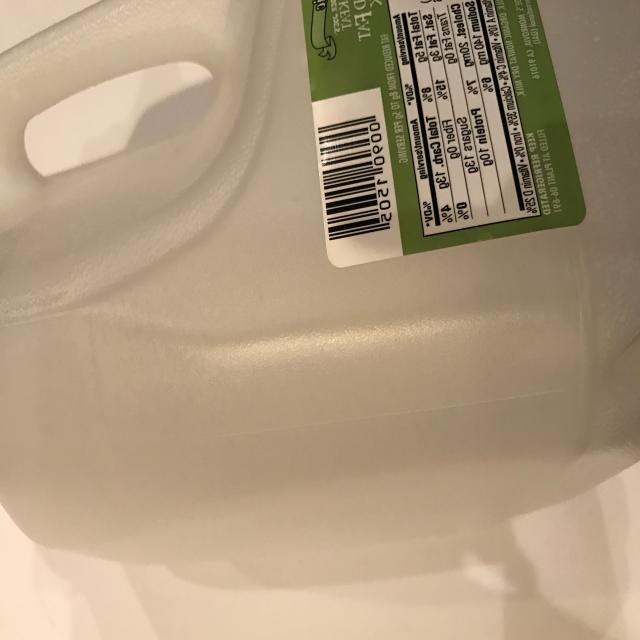plastic: (301, 0, 587, 269)
